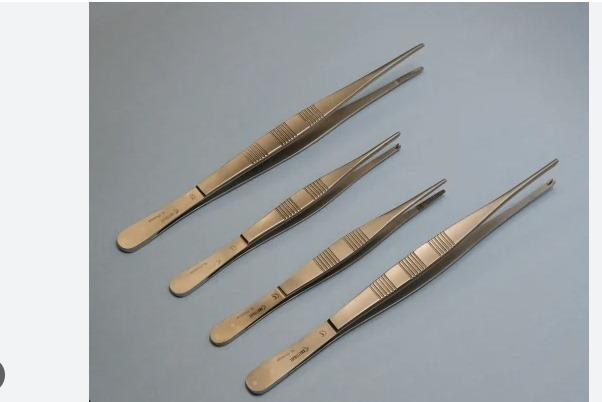Disscting Forceps: (239, 156, 570, 398), (106, 40, 427, 258), (165, 118, 404, 304), (207, 174, 452, 349)
